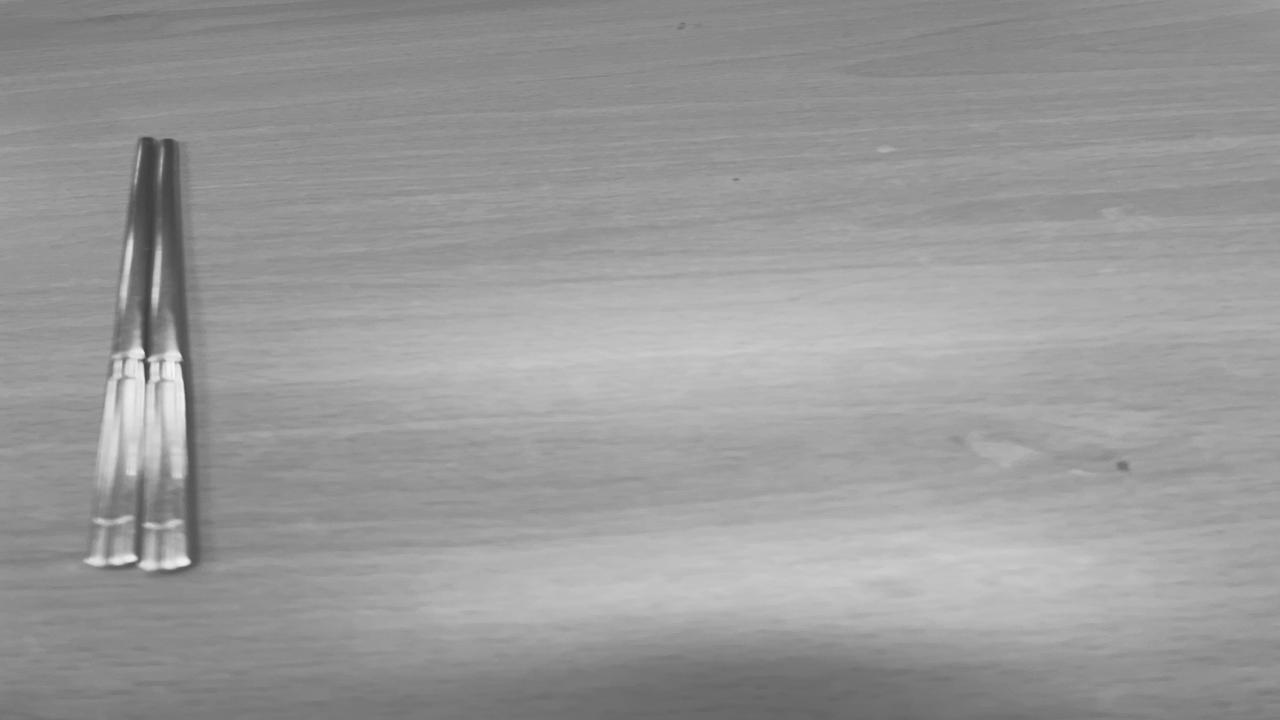chopstick: (89, 138, 190, 565)
